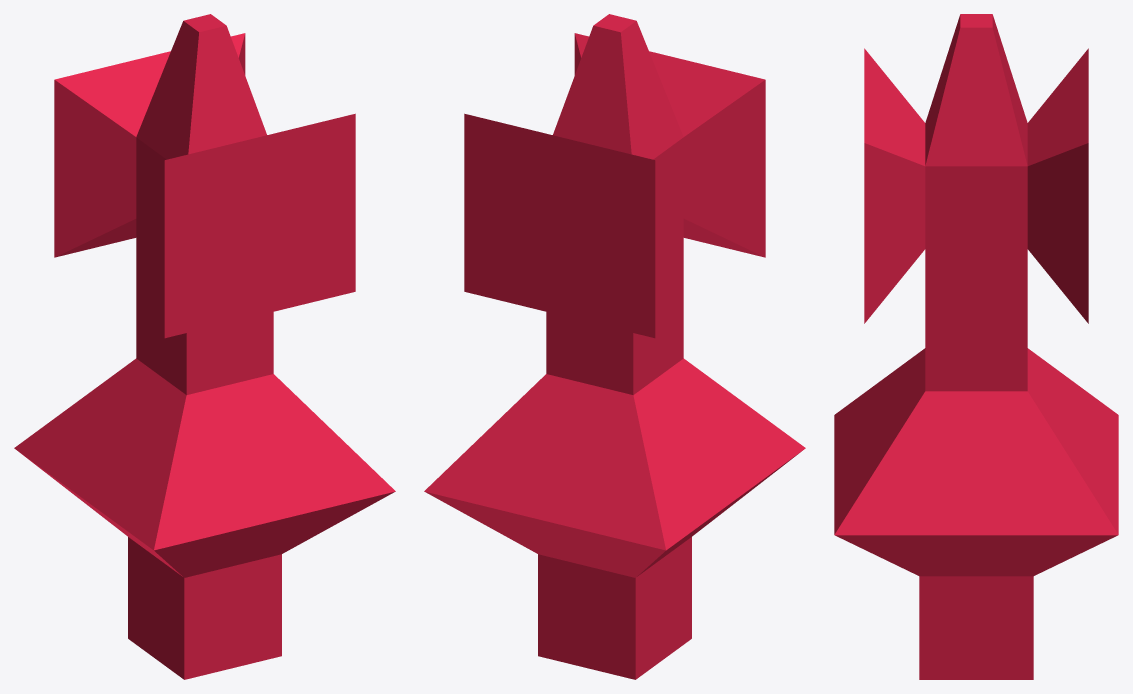
File: red.glb
The picture shows the model from 3 angles, left to right: view 1: azimuth 30°, elevation 25°; view 2: azimuth 150°, elevation 25°; view 3: azimuth 270°, elevation 25°; orthographic projection.
Parts seen in each view (by area): view 1: red; view 2: red; view 3: red.
Boxes of the visible parts, x1,y1,x2,y2 form: red: [14, 14, 395, 679]; red: [424, 14, 805, 679]; red: [834, 14, 1118, 679].
Size of the model in its own units: 2 by 4.93 by 2.
